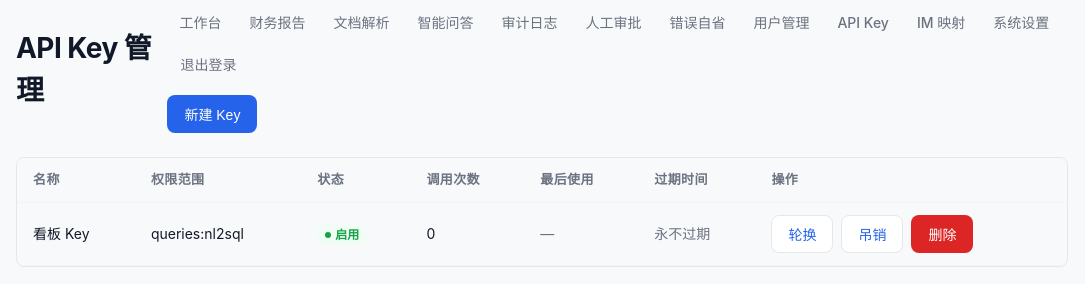
Test case: ApiKeysPage › 确认吊销 Key 后置为禁用
The width and height of the screenshot is (1085, 284).
Expected: the text "看板 Key" is shown, [17, 202, 135, 265]
Click the button "吊销" at (872, 234), box [841, 214, 903, 252]
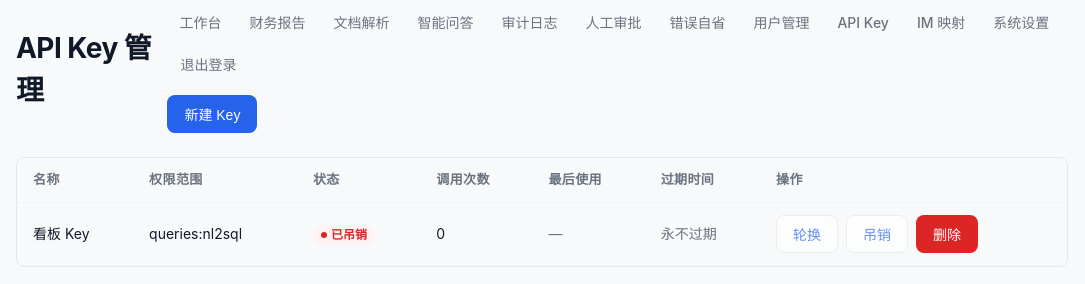
Result: the text "已吊销" is shown at [313, 225, 375, 245]
